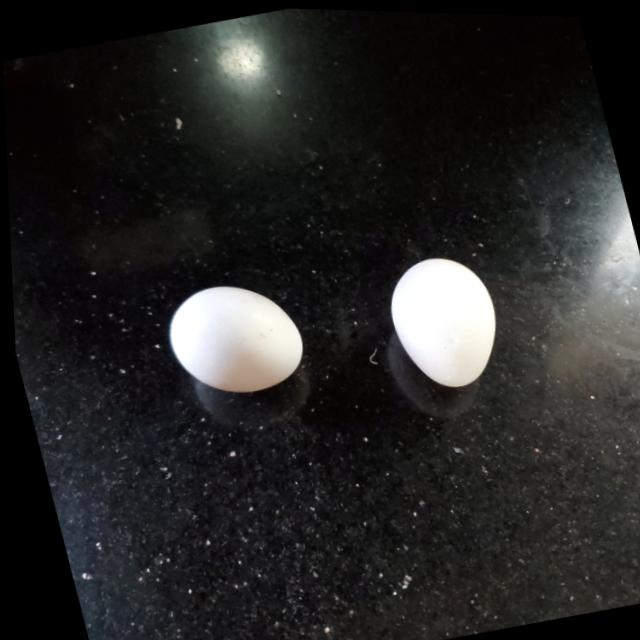egg: (372, 240, 514, 401), (154, 264, 315, 405)
